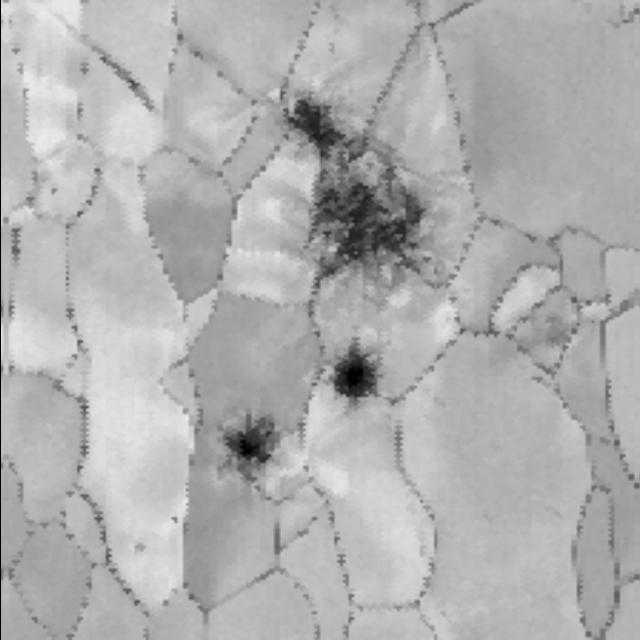good_void: (278, 89, 431, 289), (218, 399, 296, 481), (316, 334, 387, 414), (506, 309, 574, 357), (127, 536, 151, 556), (43, 182, 61, 198), (163, 511, 183, 525)
